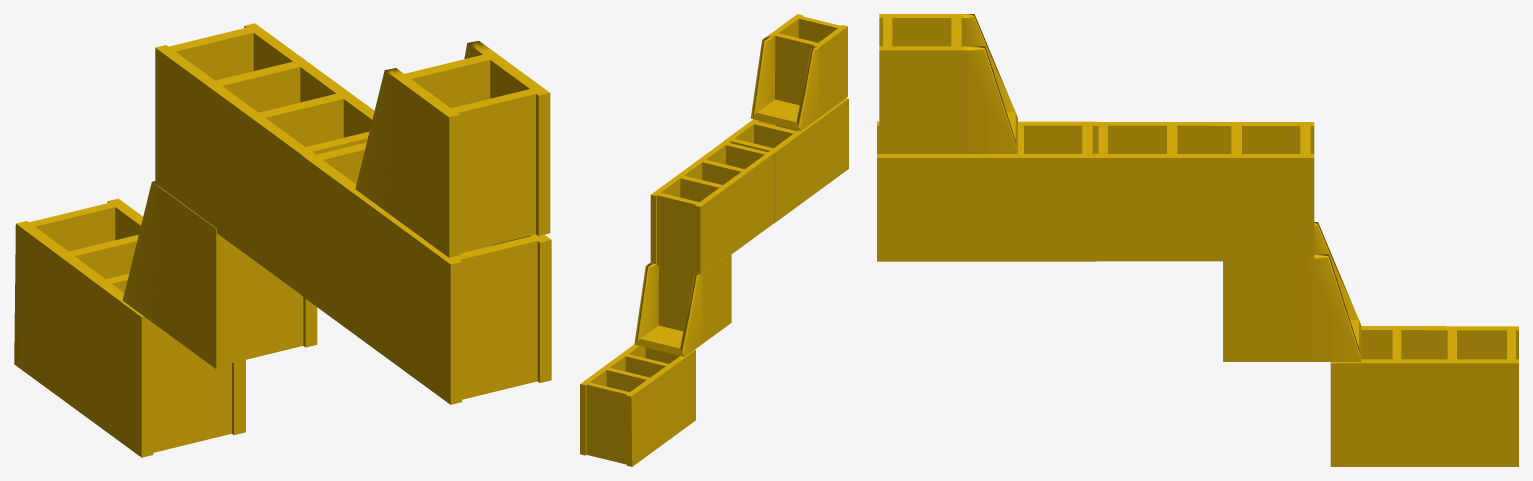
File: Wall_Cinderblock_01_Lod0.fbx
The picture shows the model from 3 angles, left to right: view 1: azimuth 30°, elevation 25°; view 2: azimuth 150°, elevation 25°; view 3: azimuth 270°, elevation 25°; orthographic projection. The views are drawn at different scales.
Parts seen in each view (by area): view 1: Wall_Cinderblock_01_Lod0; view 2: Wall_Cinderblock_01_Lod0; view 3: Wall_Cinderblock_01_Lod0.
Part boxes in pixels (box(x1,y1,x2,y2)): Wall_Cinderblock_01_Lod0: box(14, 23, 551, 457); Wall_Cinderblock_01_Lod0: box(580, 14, 848, 466); Wall_Cinderblock_01_Lod0: box(877, 14, 1518, 466).
Size of the model in its own units: 20.73 by 107 by 150.
